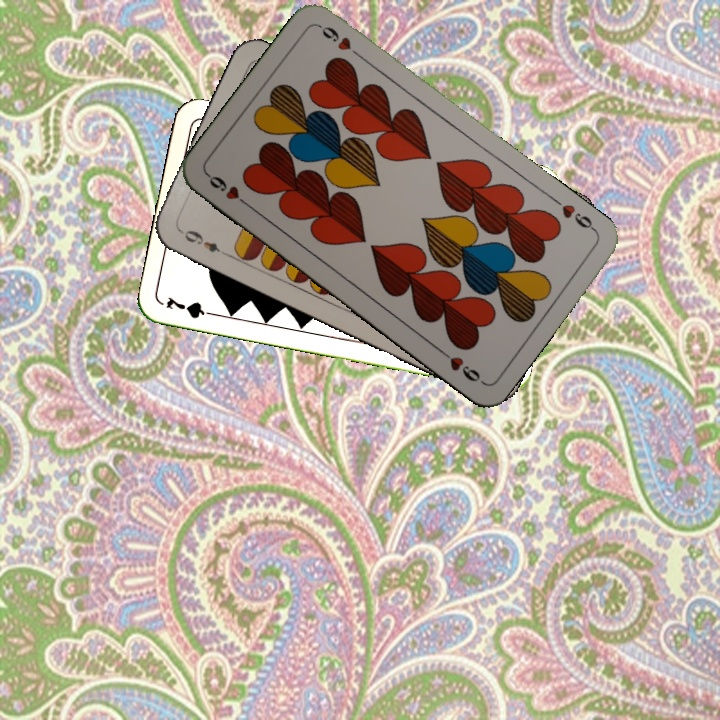E9: (176, 225, 231, 259)
G7: (162, 292, 220, 321)
H9: (203, 170, 254, 211), (558, 200, 599, 235)
